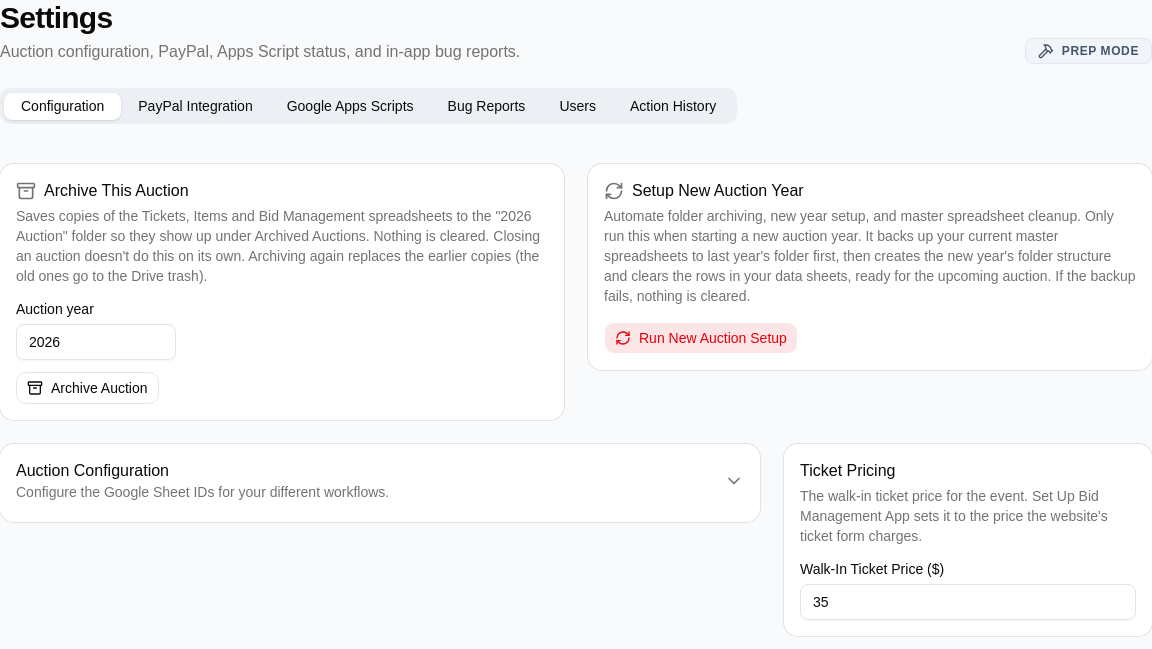
Test: ConfigSettings › expanding Auction Configuration reveals all spreadsheet ID fields
Click the button "Auction Configuration". click: (380, 483)
box: top-left (0, 460), bottom-right (760, 506)
(page scrolled)
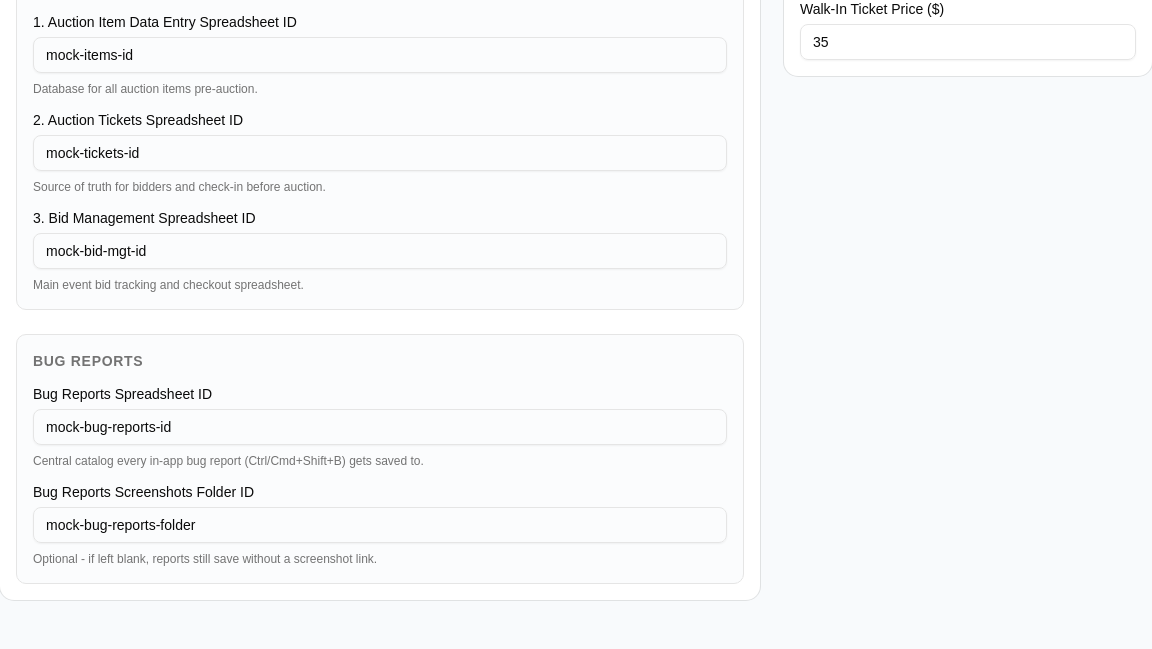
Check: the field labelled "1. Auction Item Data Entry Spreadsheet ID" is shown, box top-left (33, 37), bottom-right (727, 73)
Check: the field labelled "2. Auction Tickets Spreadsheet ID" is shown, box top-left (33, 135), bottom-right (727, 171)
Check: the field labelled "3. Bid Management Spreadsheet ID" is shown, box top-left (33, 233), bottom-right (727, 269)
